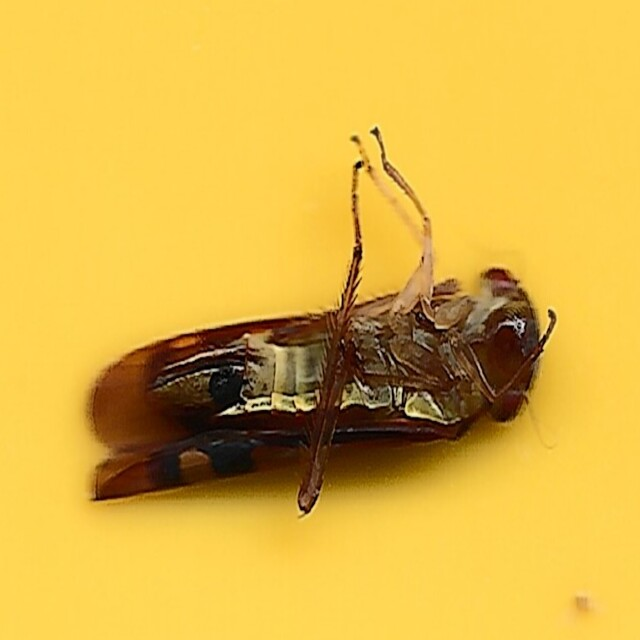Hemiptera: (84, 122, 556, 518)
